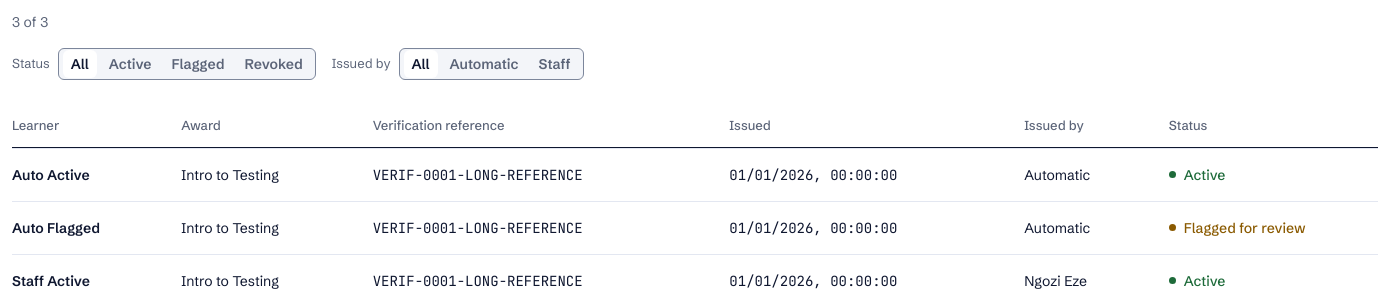
Test: IssuedCertificatesTable — issuance source (UAT test 8) › composes with the Status filter — both must match
This screenshot has width=1390, height=306.
Click the button "Automatic": x=484, y=64 [442,50,526,78]
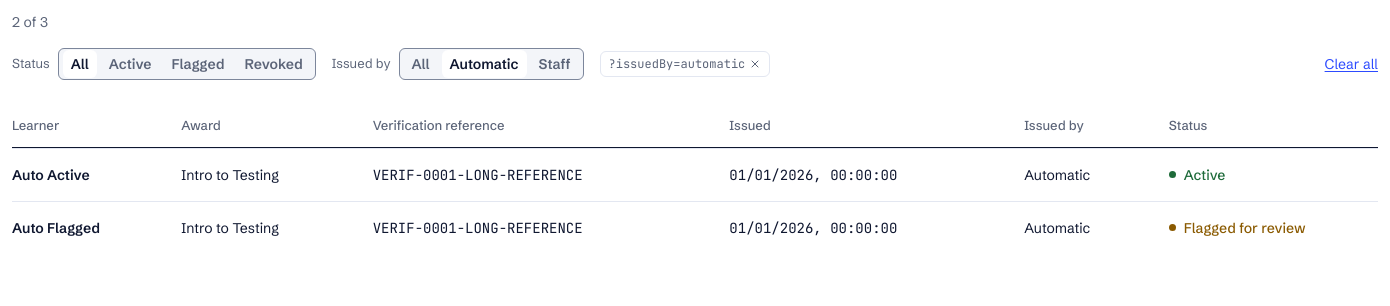
Click the button "Active": x=130, y=64 [101,50,160,78]
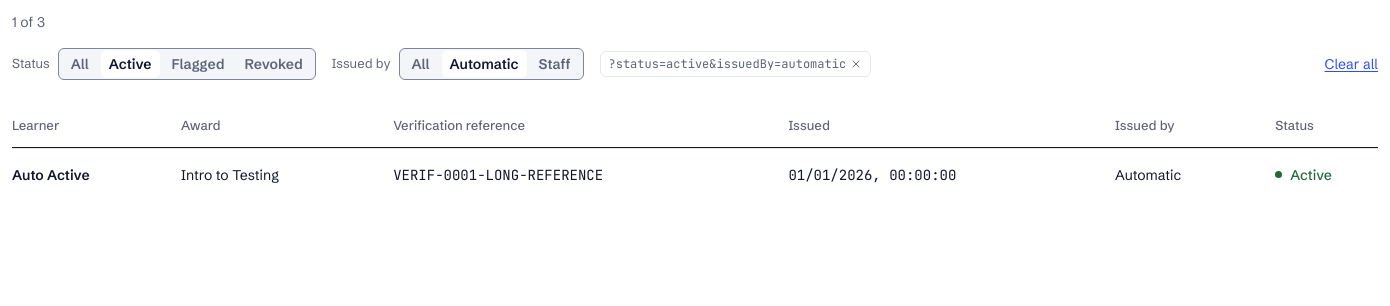
Expected: the link "Auto Active" is shown, [12,165,90,185]
Expected: the link "Auto Flagged" is gone
